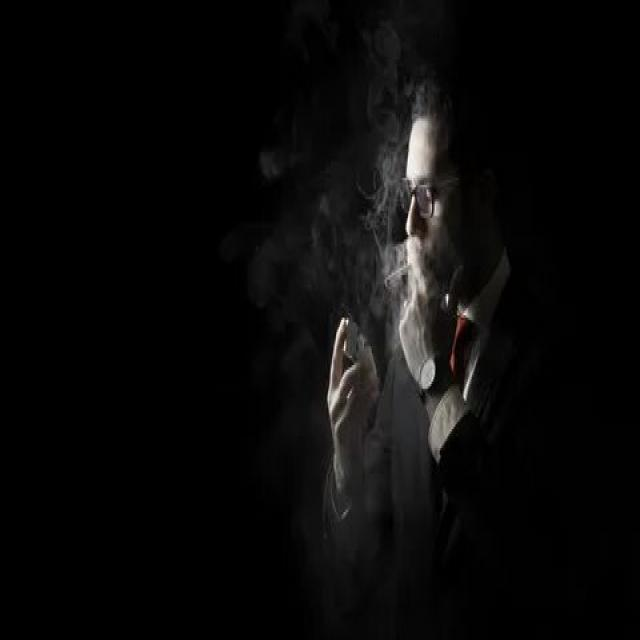cigarette: (382, 256, 414, 294)
